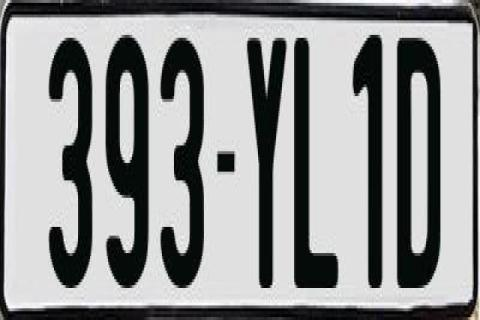0: (48, 38, 92, 306), (102, 29, 146, 297), (160, 32, 202, 300), (350, 27, 384, 297)
D: (394, 38, 442, 294)
L: (294, 32, 344, 296)
Y: (244, 38, 286, 302)
